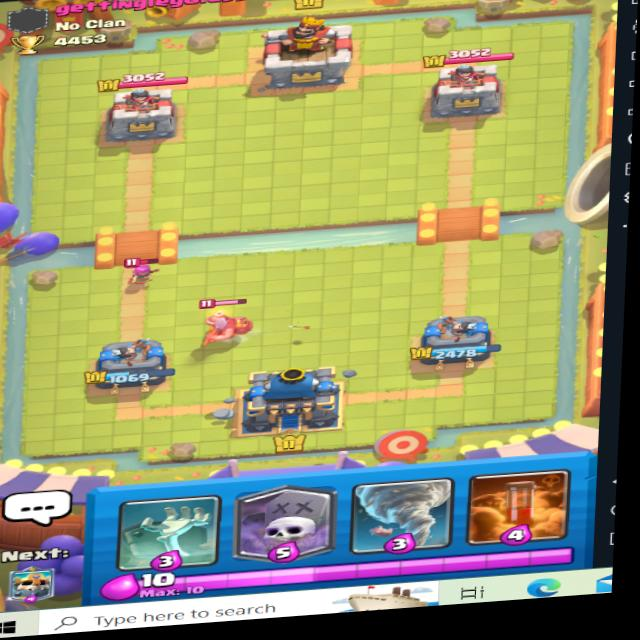archer: (115, 252, 165, 295)
miner: (190, 290, 253, 355)
